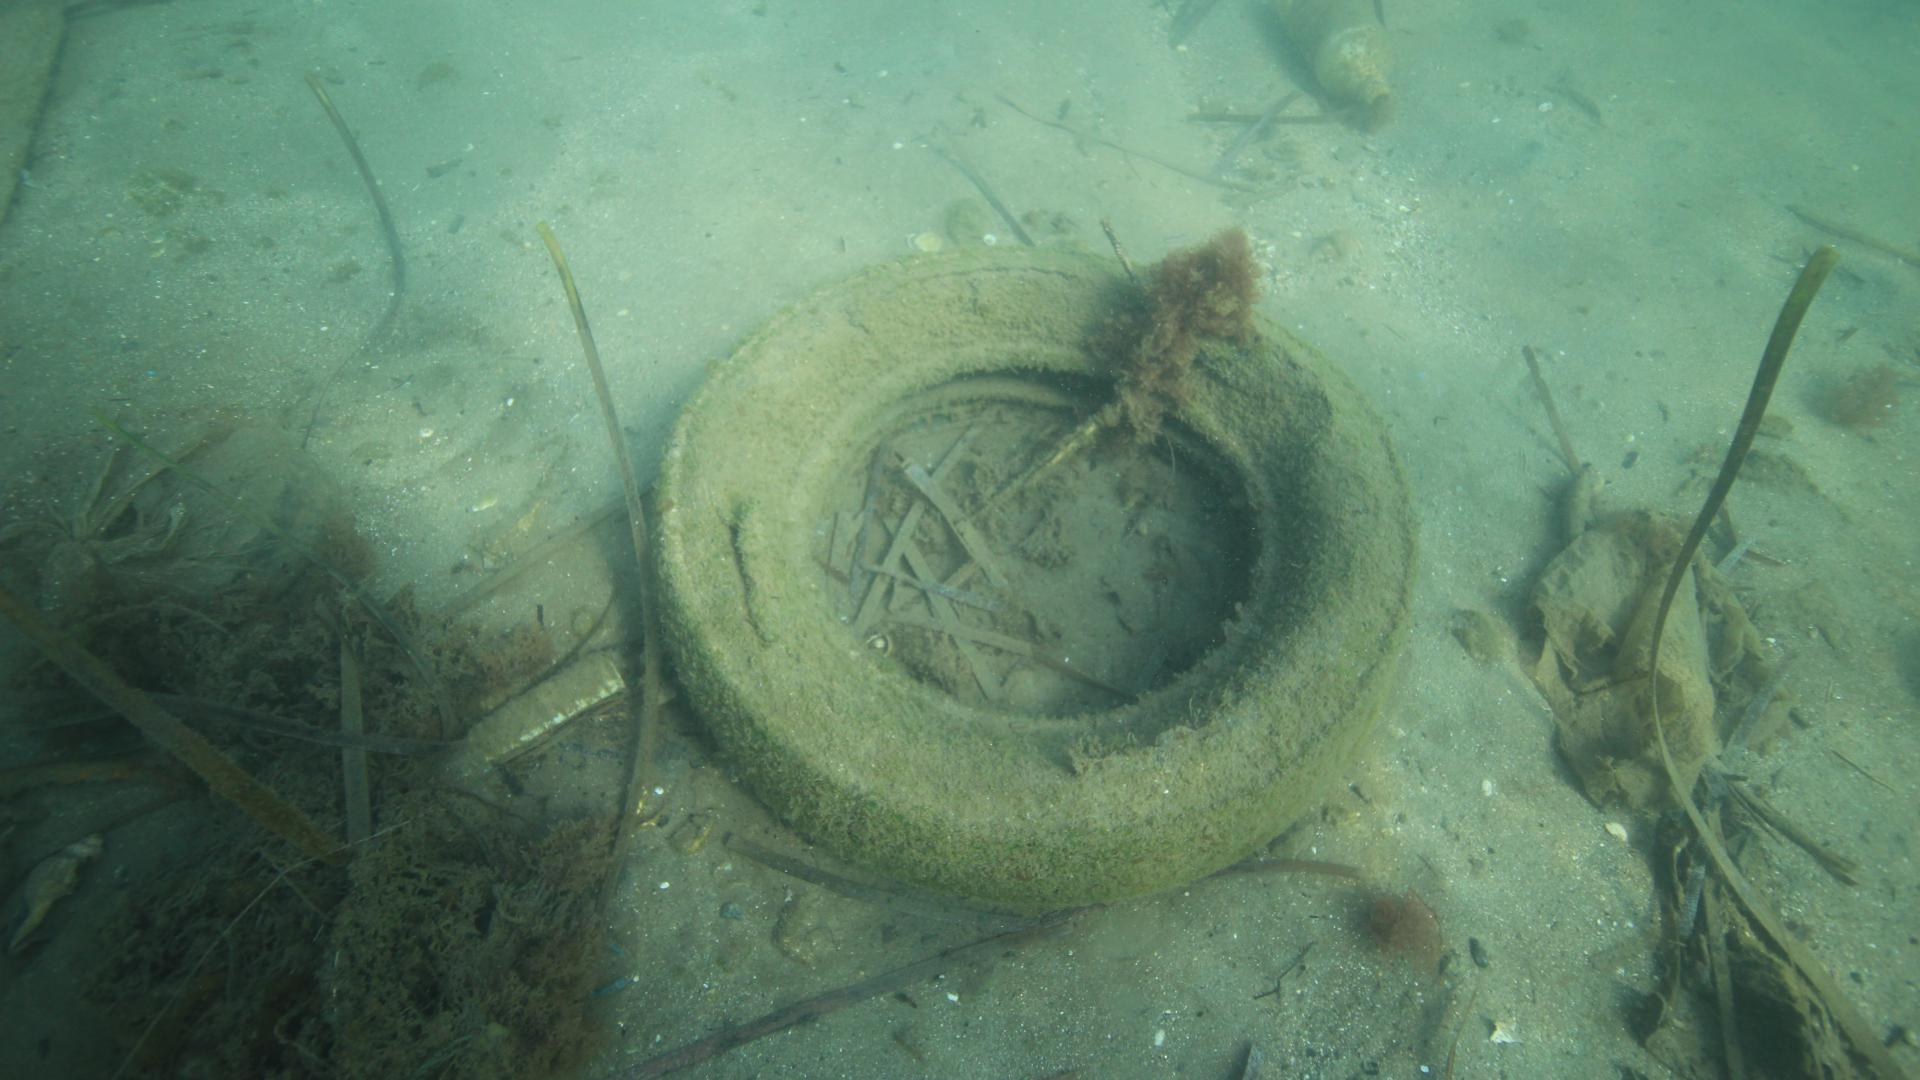tire: (647, 243, 1419, 913)
